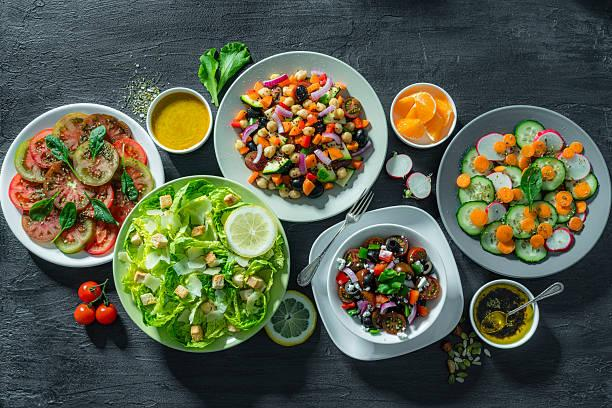Braised Crucian Carp: (435, 105, 610, 280), (112, 174, 285, 350), (212, 50, 380, 223), (0, 102, 165, 267), (307, 204, 463, 361)
